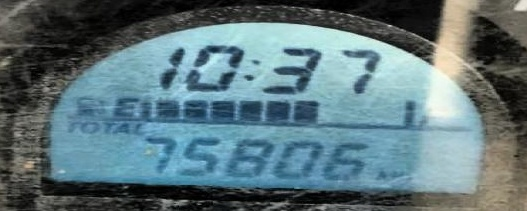0: (183, 42, 240, 92), (274, 138, 319, 179)
1: (146, 43, 183, 90)
3: (264, 44, 321, 94)
5: (177, 136, 220, 176)
6: (322, 140, 367, 181)
7: (335, 45, 382, 94), (136, 135, 173, 175)
8: (221, 138, 271, 177)
X: (107, 94, 139, 117), (241, 57, 262, 82), (417, 106, 446, 124), (79, 120, 100, 134), (59, 119, 79, 133), (99, 120, 114, 134), (389, 170, 406, 182), (370, 170, 387, 182), (115, 121, 130, 134), (130, 122, 144, 134)
